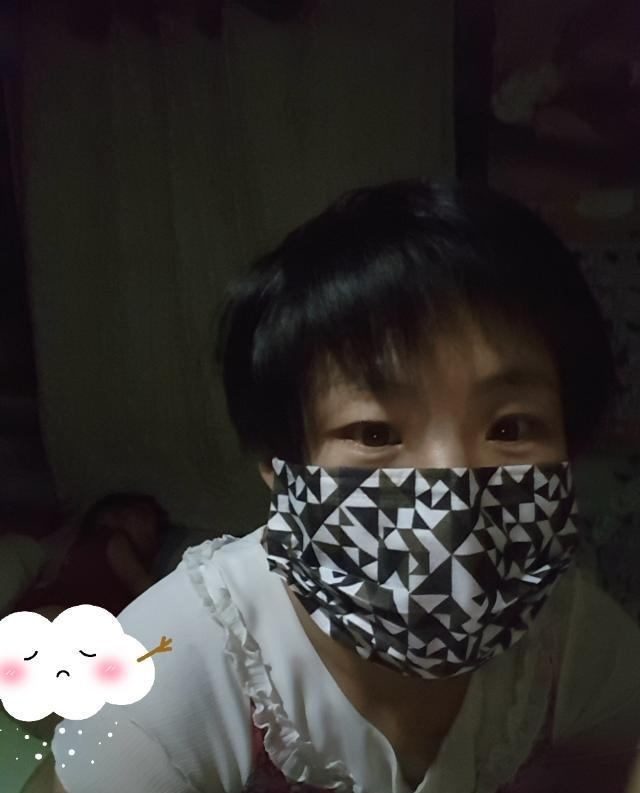OK: (273, 364, 571, 662)
